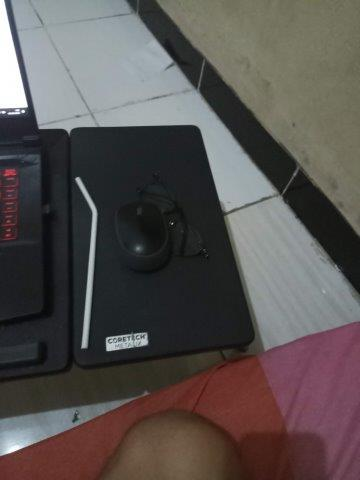sedotan: (75, 177, 98, 348)
